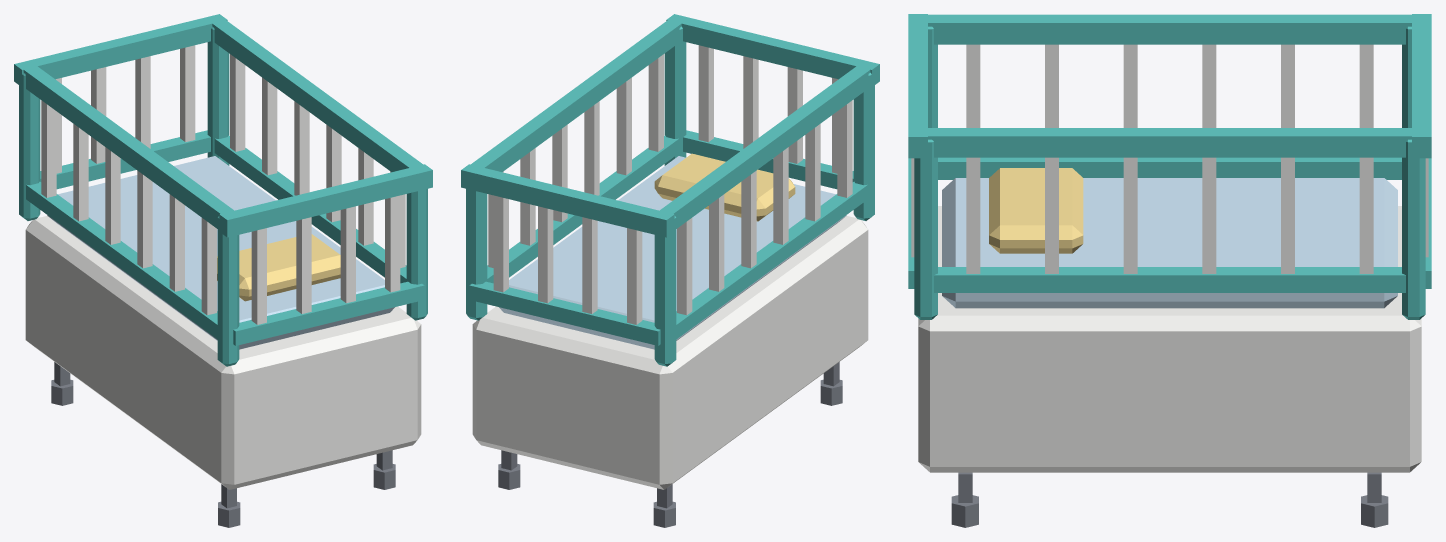
File: medical-23587.glb
3 renders of one model, left to right at view 1: azimuth 30°, elevation 25°; view 2: azimuth 150°, elevation 25°; view 3: azimuth 270°, elevation 25°, orthographic. The views are drawn at different scales.
Parts seen in each view (by area): view 1: paediatric-cot; view 2: paediatric-cot; view 3: paediatric-cot.
Part boxes in pixels (left/top/right/bottom): paediatric-cot: left=14, top=14, right=432, bottom=527; paediatric-cot: left=461, top=14, right=879, bottom=527; paediatric-cot: left=908, top=14, right=1431, bottom=527.
Bounding box in the file's own units: 0.7399 × 1.12 × 1.33.
